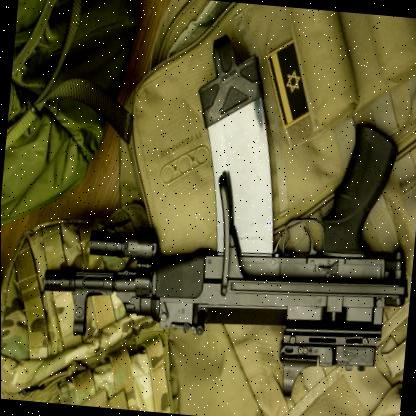rifle: (33, 64, 416, 407)
